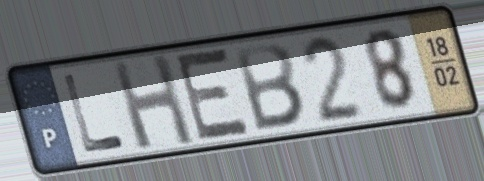2: (299, 33, 366, 127)
8: (362, 26, 419, 114)
B: (231, 40, 308, 134)
E: (173, 45, 254, 145)
H: (108, 50, 199, 153)
L: (59, 71, 129, 157)
